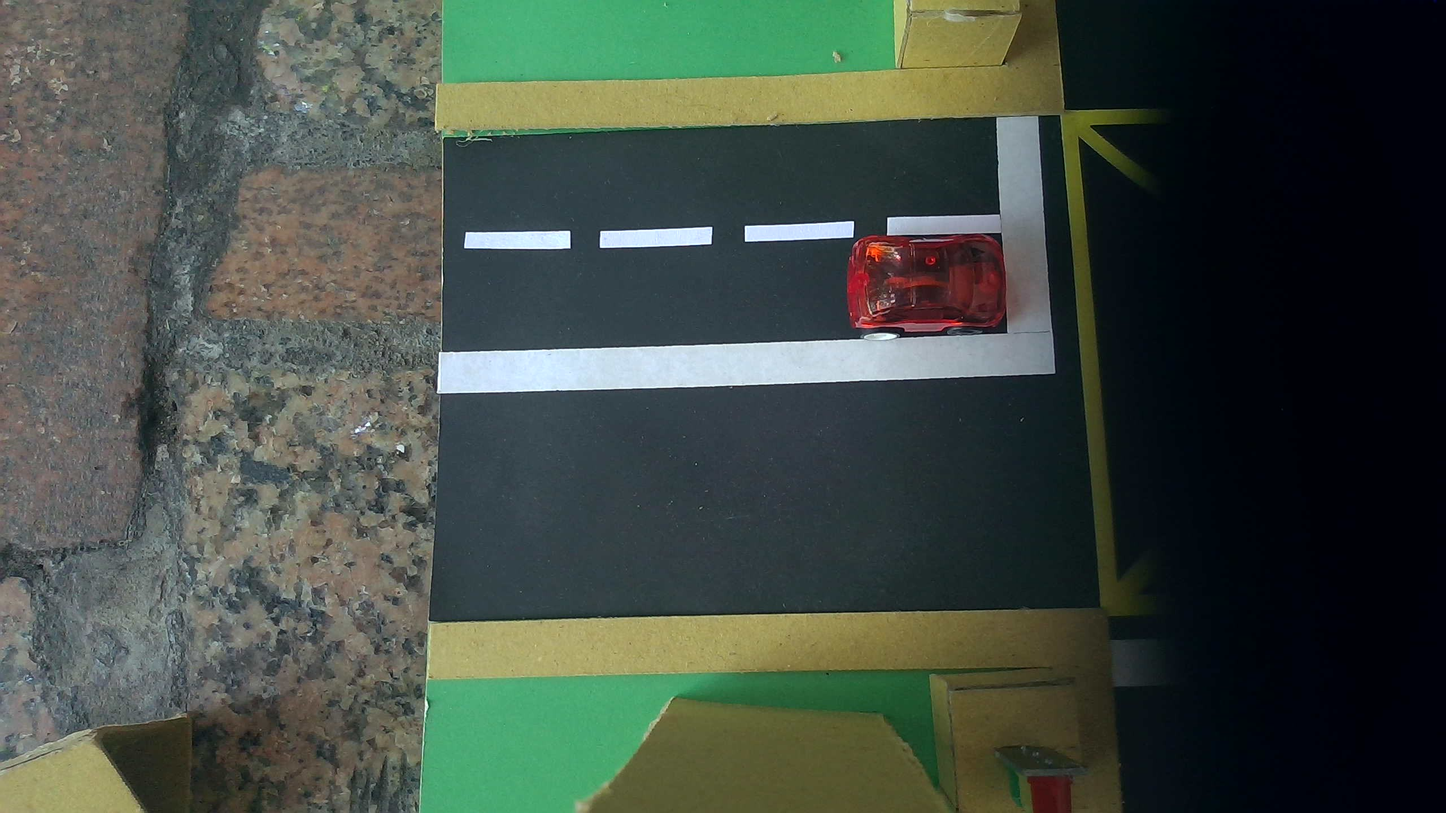Mobil merah: (847, 234, 1006, 340)
